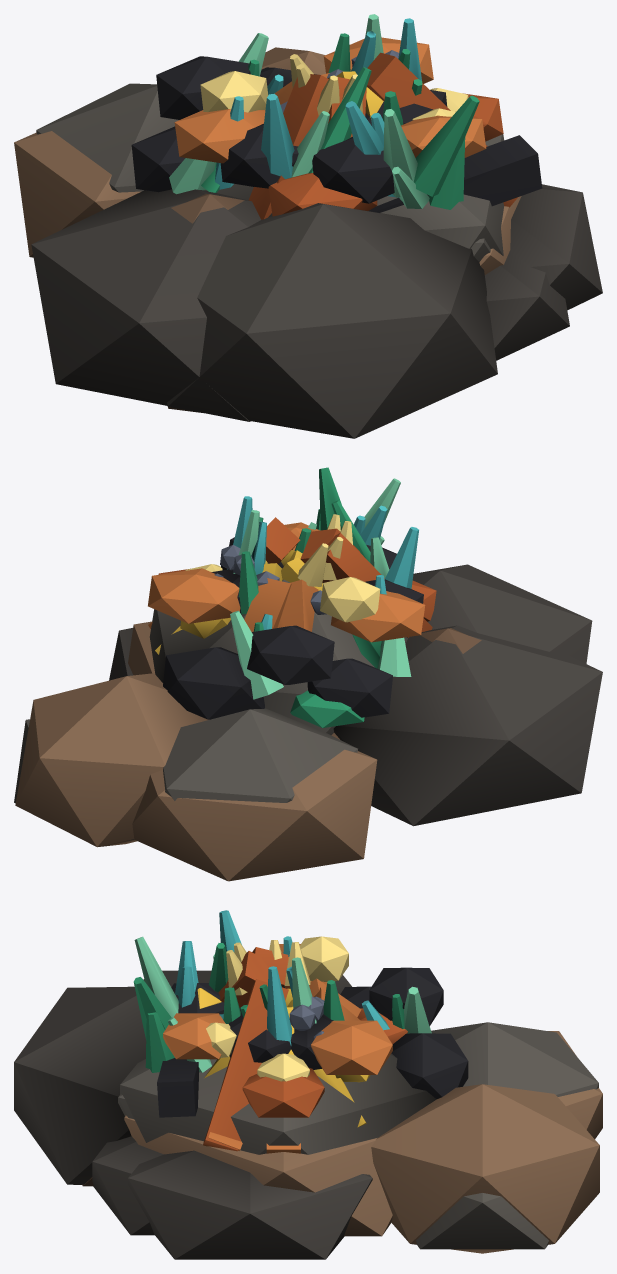
File: ores.glb
3 renders of one model, top to bottom at view 1: azimuth 30°, elevation 25°; view 2: azimuth 150°, elevation 25°; view 3: azimuth 270°, elevation 25°, orthographic. The views are drawn at different scales.
Parts seen in each view (by area): view 1: ore_coal_0, ore_coal_1, ore_copper_0, ore_iron_1, ore_copper_1, ore_gold_1, ore_iron_0, ore_gold_0; view 2: ore_coal_1, ore_copper_1, ore_coal_0, ore_copper_0, ore_iron_1, ore_iron_0, ore_gold_1, ore_gold_0; view 3: ore_coal_0, ore_copper_1, ore_coal_1, ore_copper_0, ore_iron_1, ore_iron_0, ore_gold_1, ore_gold_0.
Boxes of the visible parts, x1,y1,x2,y2 form: ore_coal_0: [36, 56, 602, 438]; ore_coal_1: [31, 50, 569, 421]; ore_copper_0: [14, 14, 521, 412]; ore_iron_1: [174, 52, 517, 219]; ore_copper_1: [171, 18, 465, 223]; ore_gold_1: [200, 54, 468, 120]; ore_iron_0: [274, 37, 486, 157]; ore_gold_0: [297, 64, 356, 115]; ore_coal_1: [14, 541, 602, 841]; ore_copper_1: [15, 496, 481, 847]; ore_coal_0: [109, 537, 592, 802]; ore_copper_0: [128, 467, 411, 881]; ore_iron_1: [158, 517, 436, 642]; ore_iron_0: [148, 522, 360, 631]; ore_gold_1: [155, 514, 380, 654]; ore_gold_0: [262, 521, 352, 581]; ore_coal_0: [14, 983, 598, 1259]; ore_copper_1: [145, 910, 599, 1253]; ore_coal_1: [92, 967, 548, 1249]; ore_copper_0: [82, 936, 602, 1236]; ore_iron_1: [203, 944, 407, 1151]; ore_iron_0: [163, 951, 392, 1153]; ore_gold_1: [204, 936, 370, 1127]; ore_gold_0: [197, 940, 294, 1054].
Size of the model in its own units: 0.4996 by 0.3004 by 0.5485.
